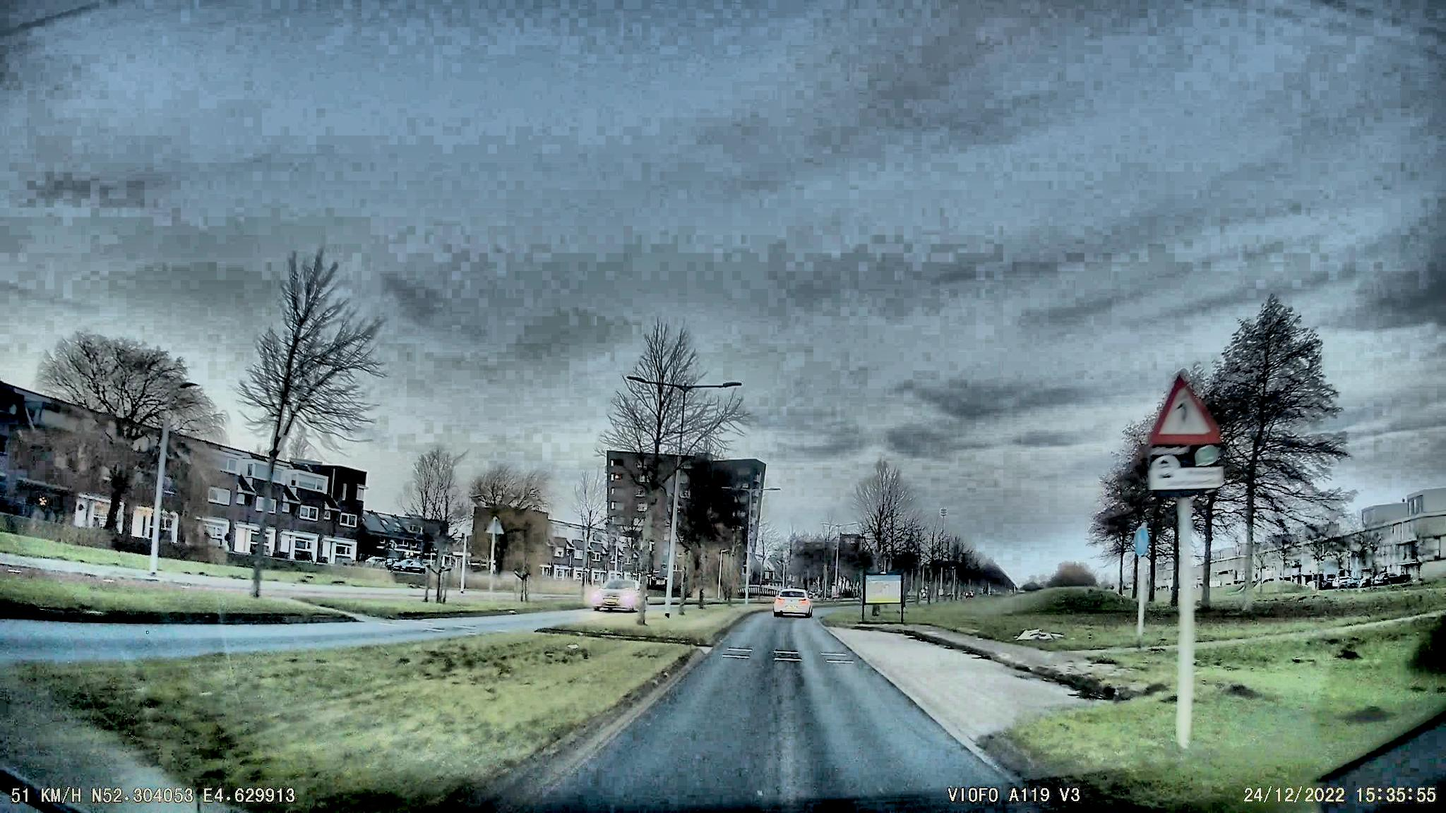Roads: (434, 611, 1121, 813)
